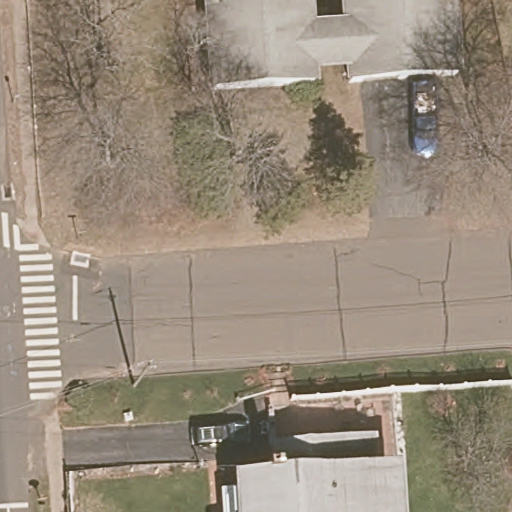DT: (131, 357, 157, 389)
